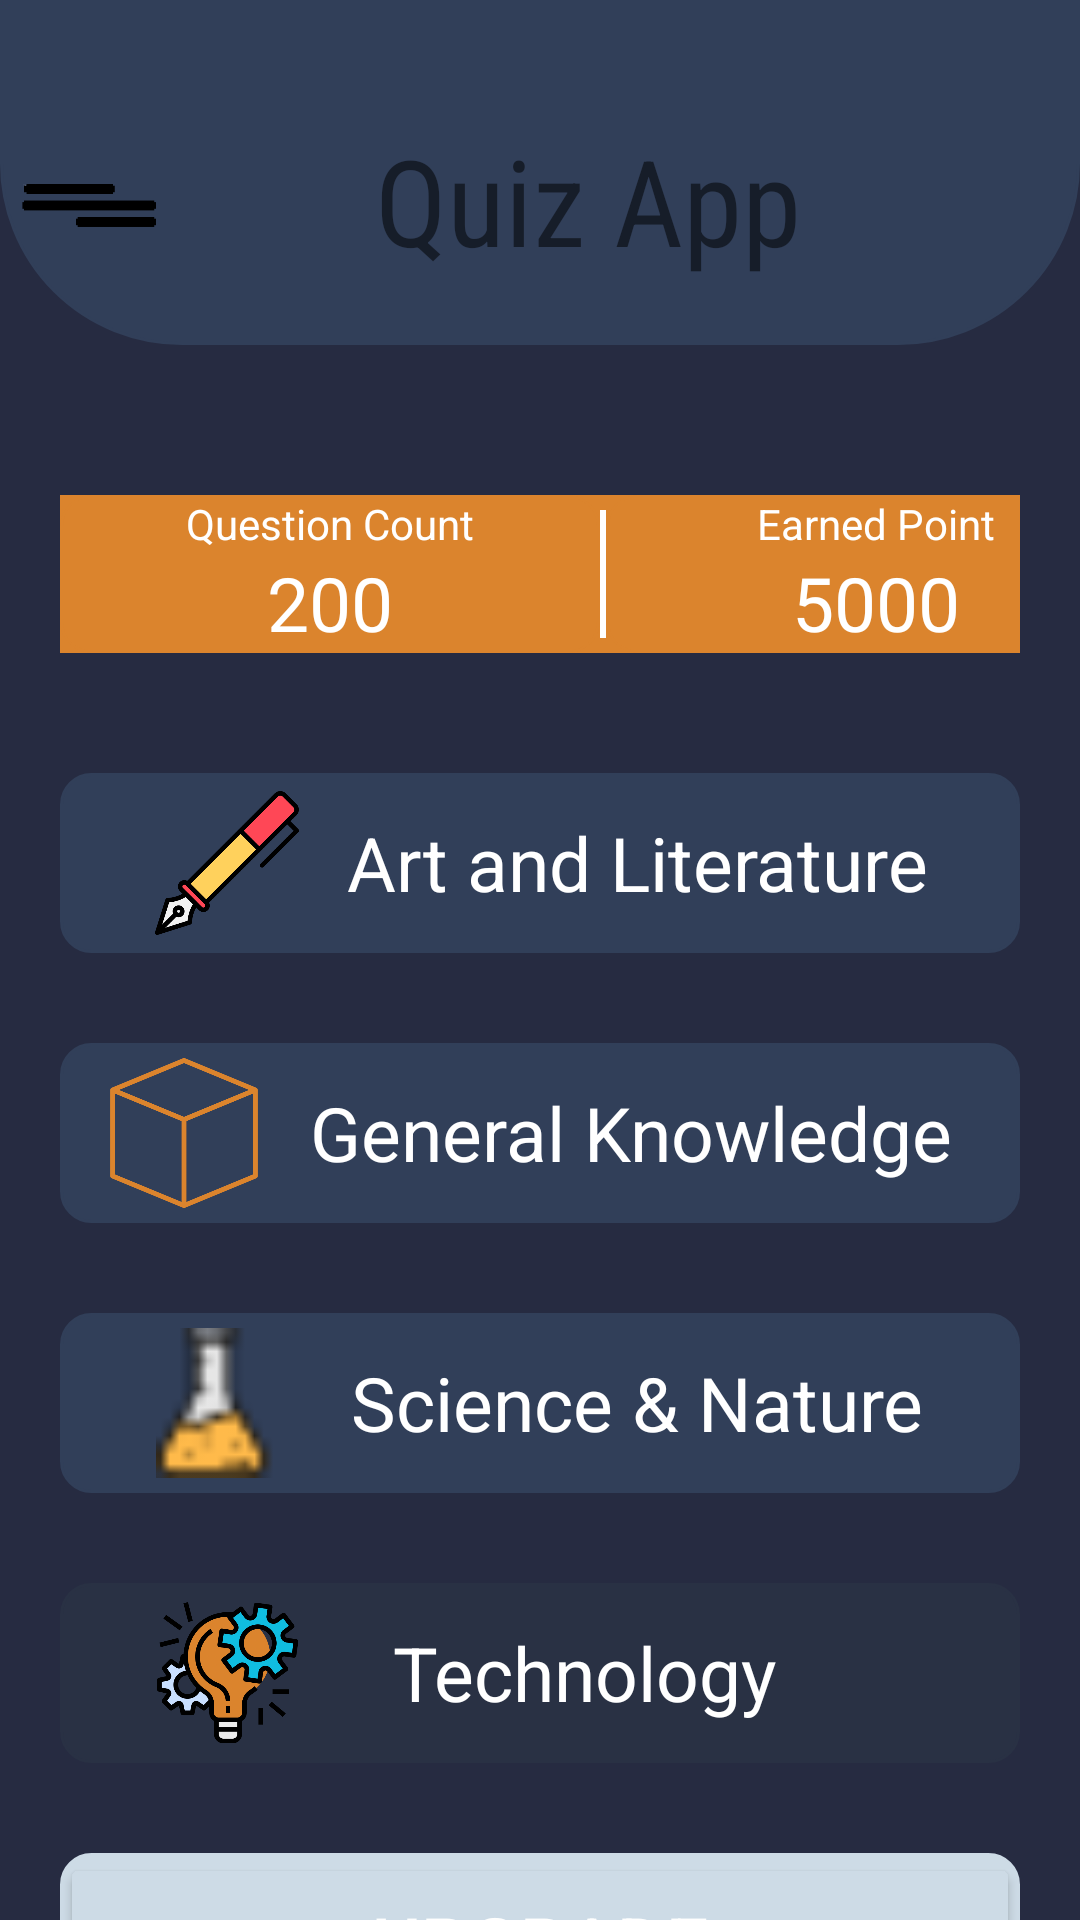

Screen size 1080 x 1920. Icon name, then its center in pixels as (x,y):
cube: (184,1133)
flask: (212,1403)
fountain pen: (227,863)
project management: (227,1672)
